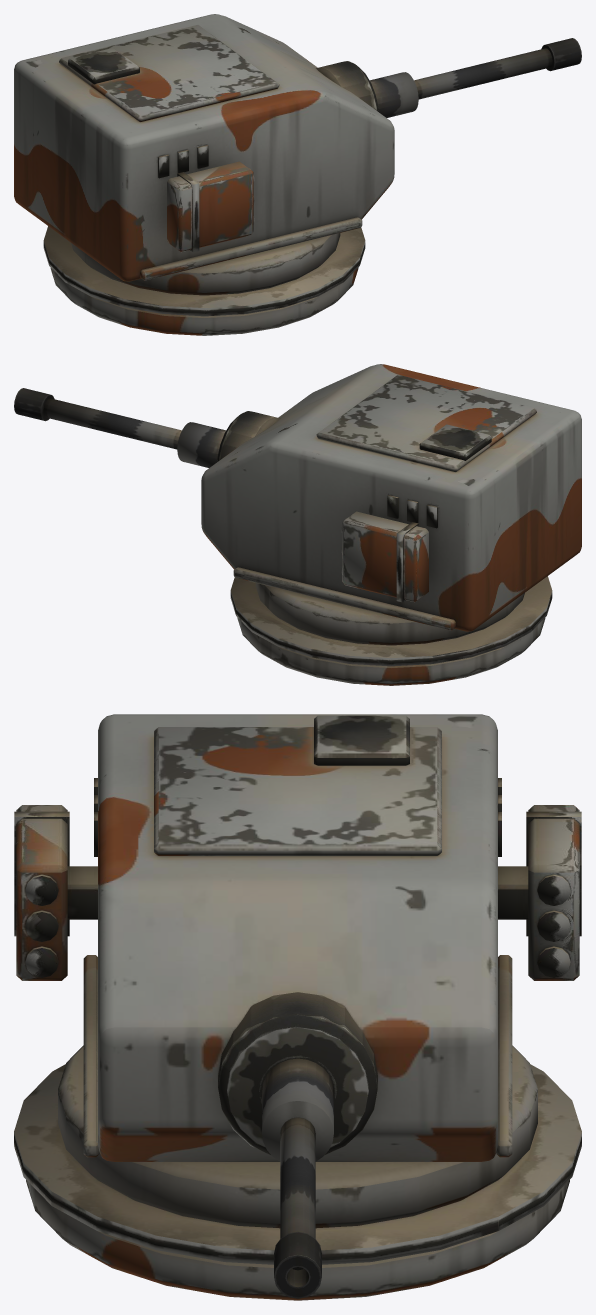
Rendered from turret_grach_t1_rust.glb.
3 renders of one model, top to bottom at view 1: azimuth 30°, elevation 25°; view 2: azimuth 150°, elevation 25°; view 3: azimuth 270°, elevation 25°, orthographic. The views are drawn at different scales.
Visible parts, largest first — view 1: turret_light_t1, guns, pods; view 2: turret_light_t1, guns, pods; view 3: turret_light_t1, guns, pods.
Boxes of the visible parts, x1,y1,x2,y2 form: turret_light_t1: [14, 14, 394, 335]; guns: [316, 38, 581, 117]; pods: [167, 161, 254, 252]; turret_light_t1: [201, 364, 581, 685]; guns: [14, 388, 279, 467]; pods: [341, 511, 428, 602]; turret_light_t1: [14, 714, 581, 1300]; guns: [218, 992, 377, 1298]; pods: [14, 805, 581, 980].
Bounding box in the file's own units: 1.14 × 0.4664 × 0.6248.
3 materials, 3 textured.
